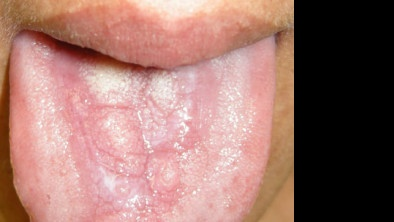SJS-TEN: (58, 57, 220, 222)
